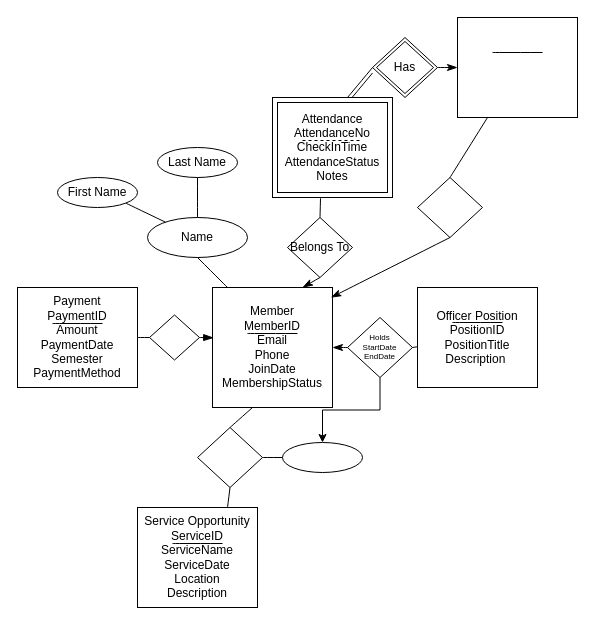
The diagram is 595 pixels wide and 625 high, and some of its shapes have lost their labels. The centre of each missing label's shape, as x and y in pixels:
"EVENT EventID EventName EventDate Location EventType" goes at point (517, 67).
"HoursEarned" goes at point (322, 457).
"Makes" goes at point (174, 337).
"Manages" goes at point (449, 207).
"Participates In" goes at point (229, 457).
